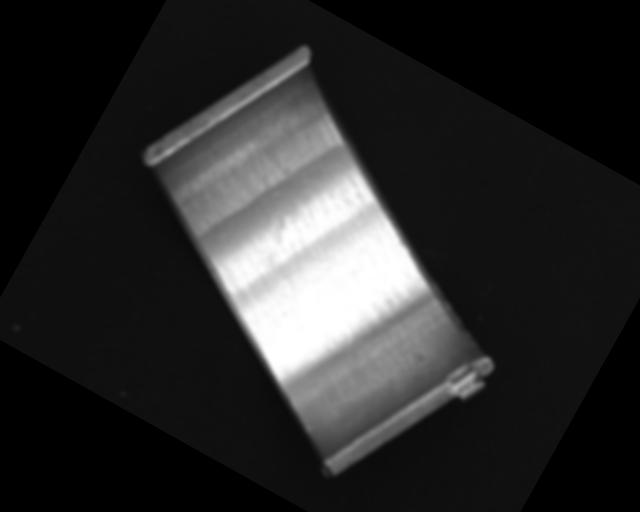nick: (305, 420, 320, 436)
